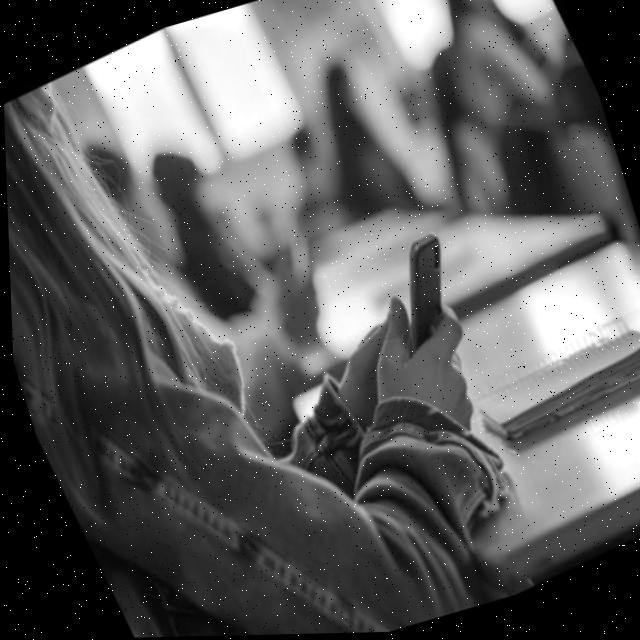phone: (357, 225, 483, 365)
